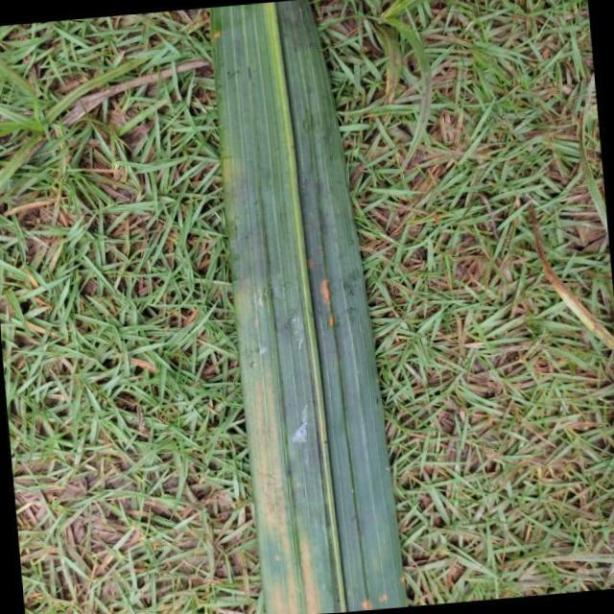Megnesium: (219, 0, 408, 614)
